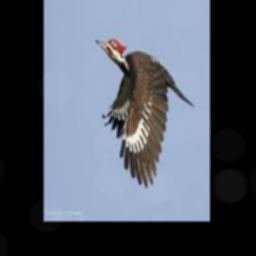Woodpecker: (96, 37, 194, 188)
